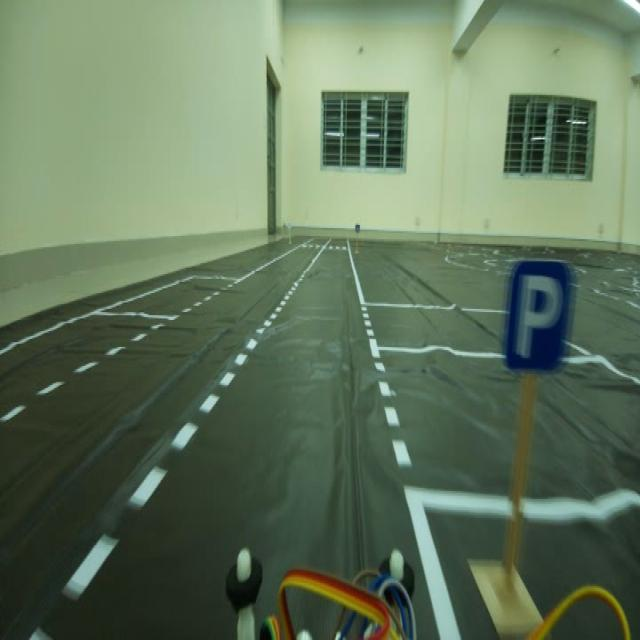parking: (489, 239, 579, 369)
